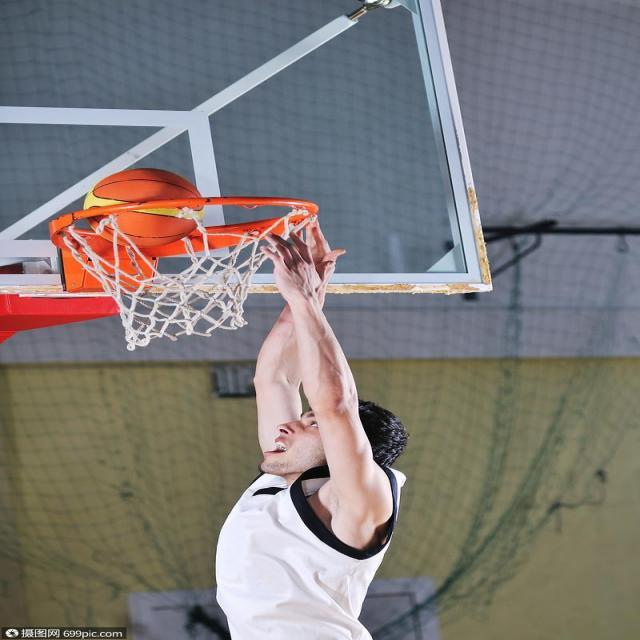rim: (81, 170, 202, 246)
